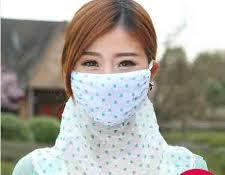OK: (78, 51, 148, 121)
